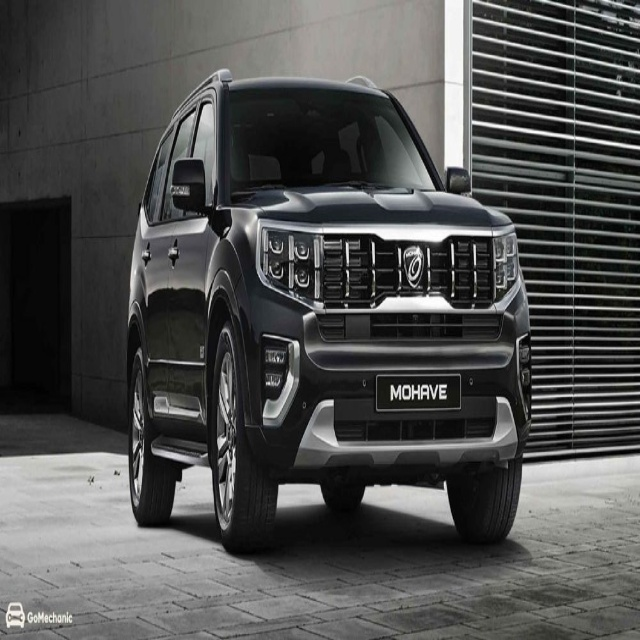Car: (125, 70, 531, 556)
